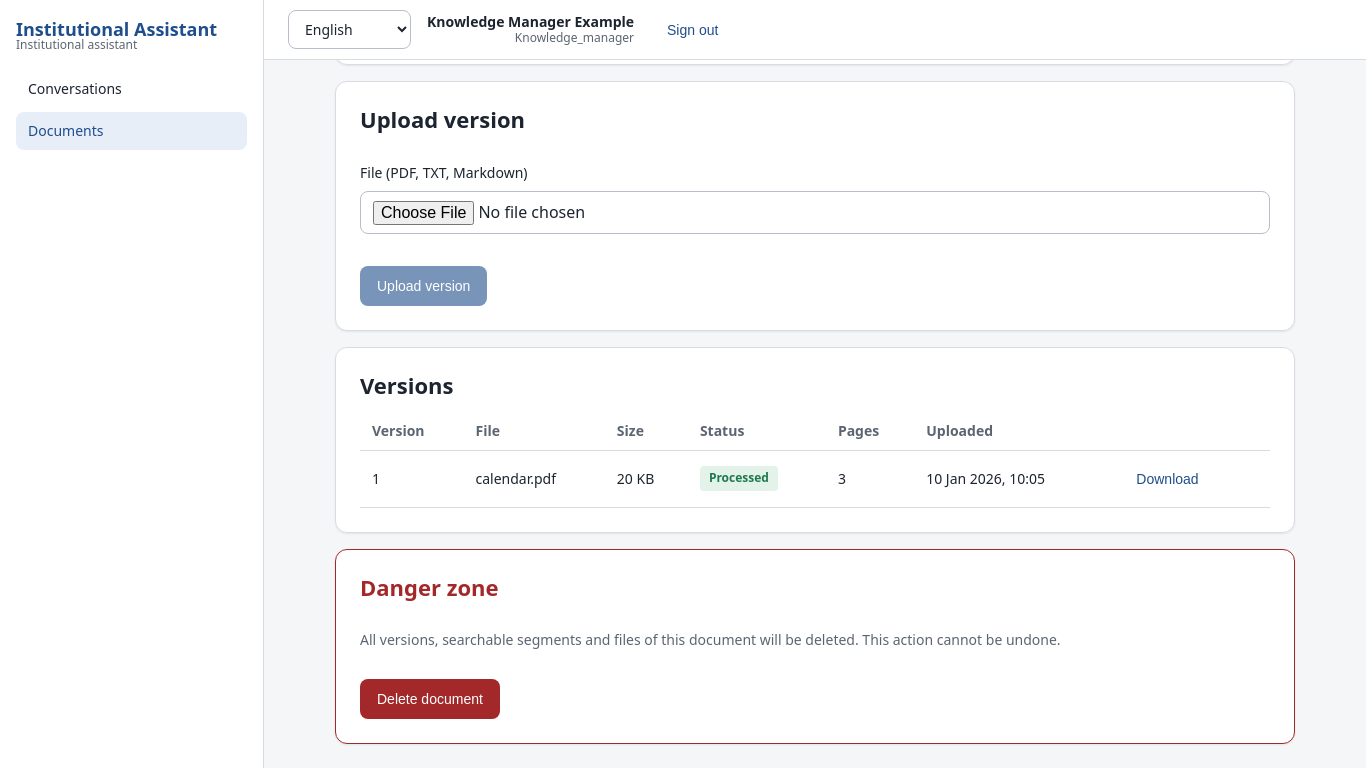
Test: documents admin area › clears the session on a 401 download without creating a file
The image size is (1366, 768).
(page scrolled)
What coordinates should you click on to do the following:
click the button "Download"
I would click on:
 (1168, 479)
Its box is [1119,459,1216,499].
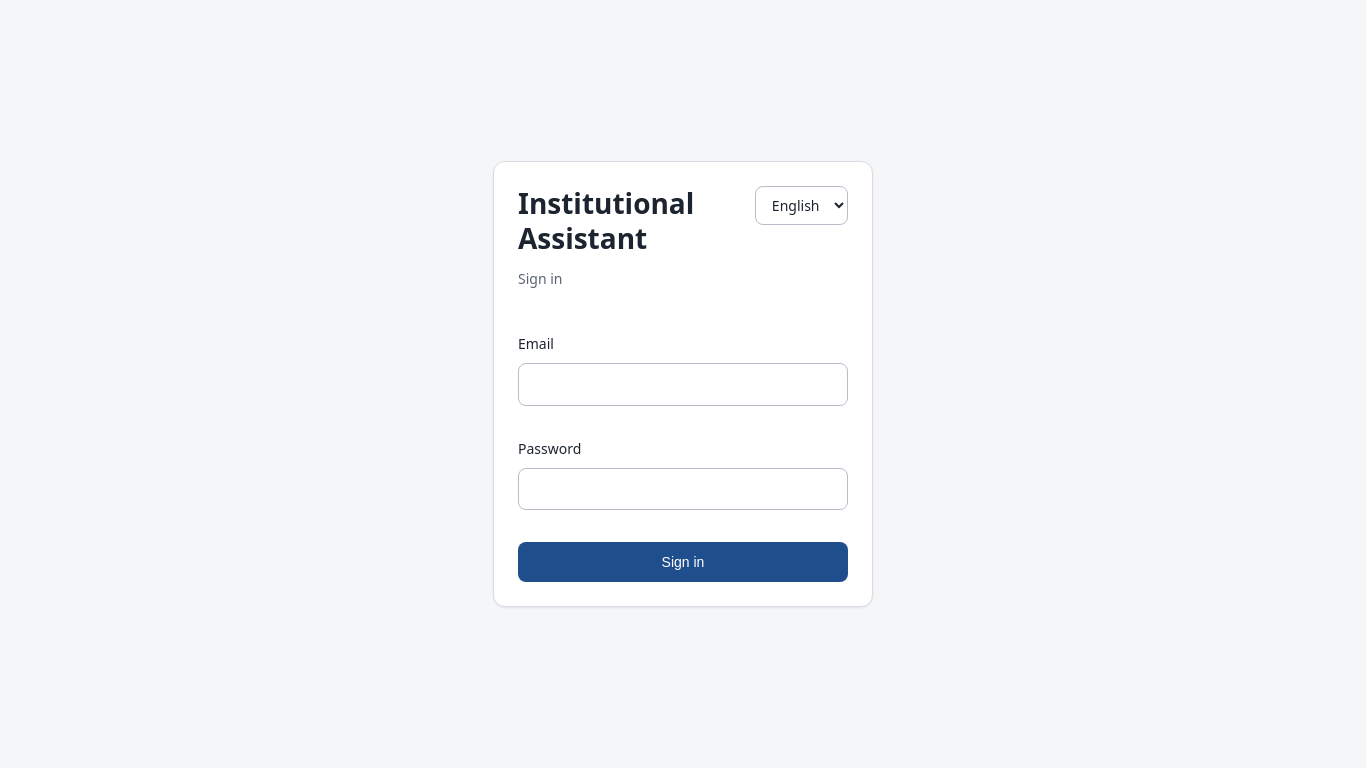
Check: the button "Sign in" is shown, box [518,542,848,582]
